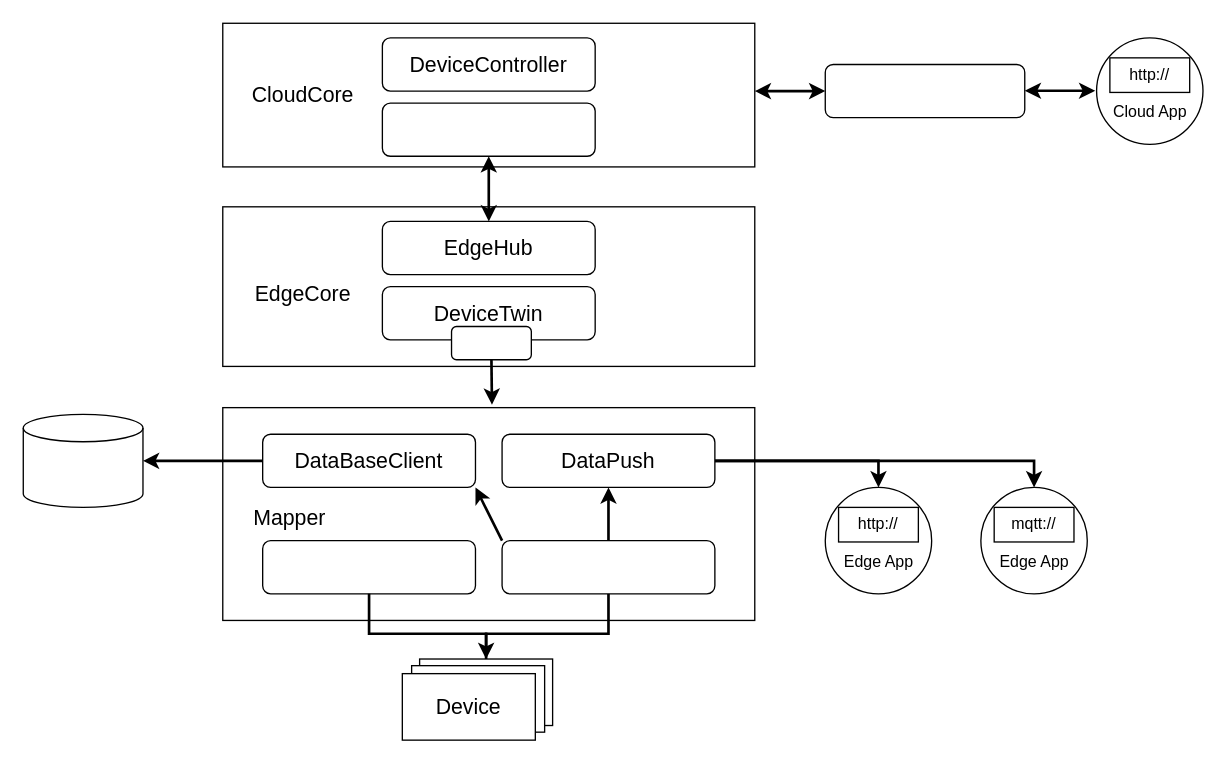
This 1226x763 diagram has some shape labels left out. The shapes that lost their labels are listed below. From the top down, each one's centre as x and y in pixels, then its label:
At pixel 924 90: "K8s API-Server".
At pixel 488 129: "CloudHub".
At pixel 490 342: "DMI".
At pixel 82 460: "本地数据库".
At pixel 368 566: "DevPanel".
At pixel 608 566: "DataPanel".
